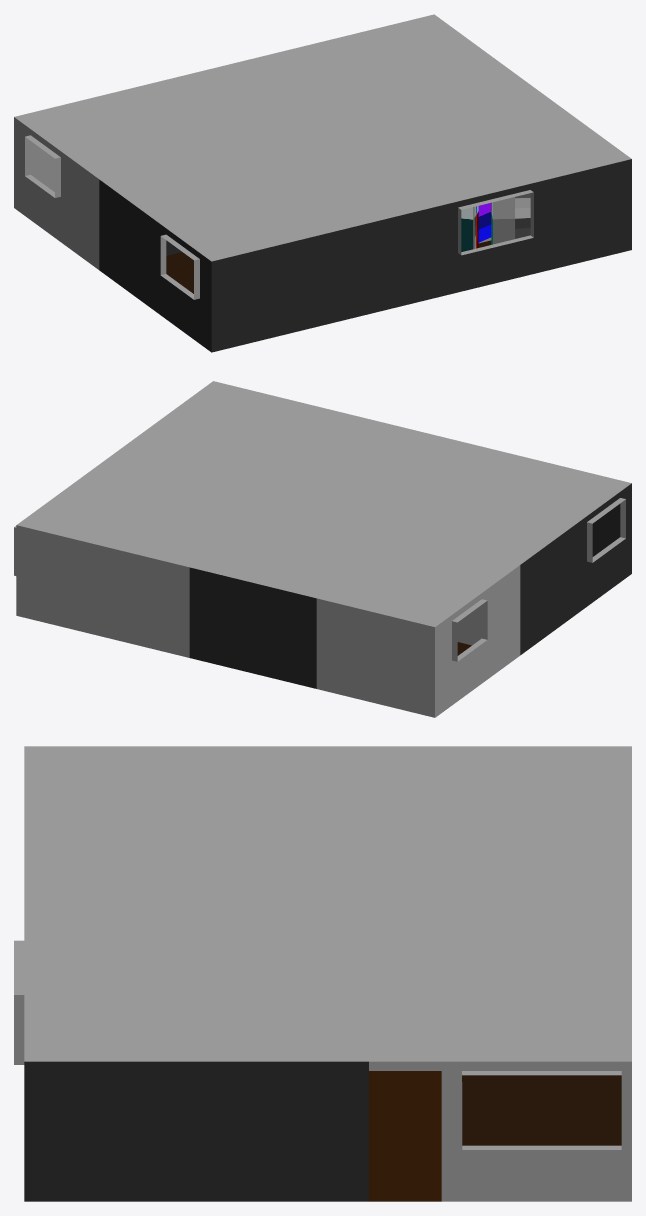
The model's file is first_level.glb.
3 renders of one model, top to bottom at view 1: azimuth 30°, elevation 25°; view 2: azimuth 150°, elevation 25°; view 3: azimuth 270°, elevation 25°, orthographic. The views are drawn at different scales.
Parts seen in each view (by area): view 1: Level; view 2: Level; view 3: Level.
Part boxes in pixels (x1,y1,x2,y2): Level: (14,14,631,352); Level: (14,381,631,717); Level: (14,746,631,1201).
Size of what is drawn, in the model's own units: 11.18 by 3.25 by 9.01.
1 material, 1 textured.
